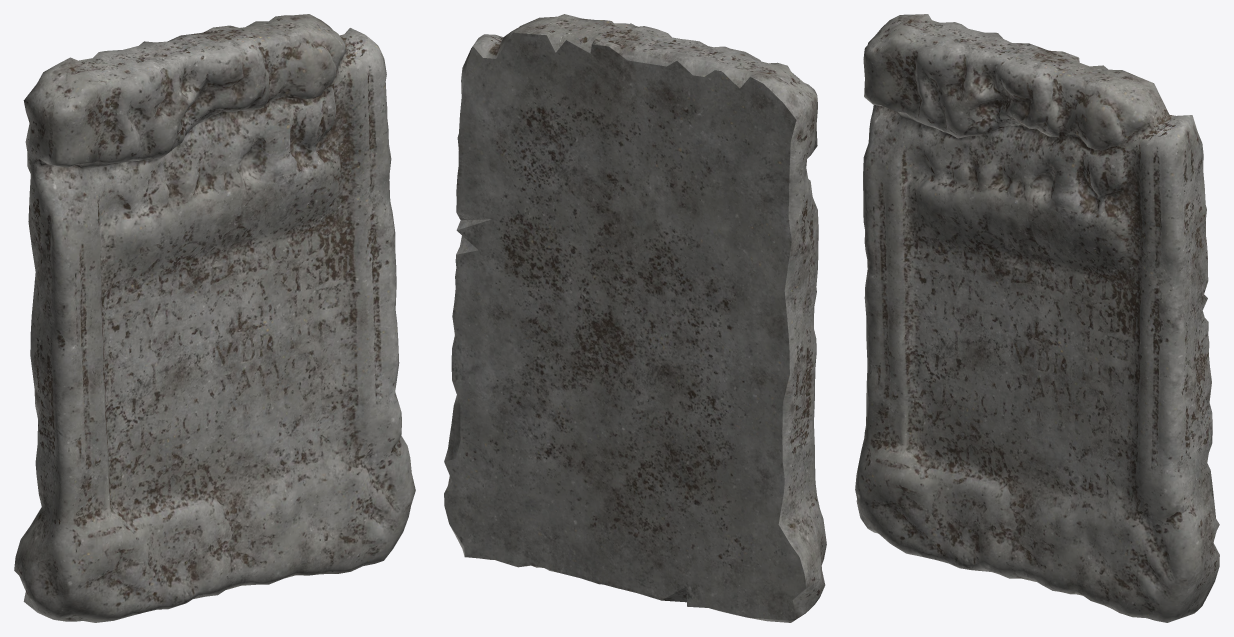
Rendered from stele-bordeaux.glb.
3 views of the same model, side by side, from view 1: azimuth 30°, elevation 25°; view 2: azimuth 150°, elevation 25°; view 3: azimuth 330°, elevation 25° (orthographic). The views are drawn at different scales.
Visible parts, largest first — view 1: Bordeaux; view 2: Bordeaux; view 3: Bordeaux.
Boxes of the visible parts, <box> form: Bordeaux: <box>14,14,415,622</box>; Bordeaux: <box>444,14,826,622</box>; Bordeaux: <box>855,14,1219,622</box>.
Bounding box in the file's own units: 2.46 × 3.5 × 0.4547.
Materials: 1 (1 with a texture image).
